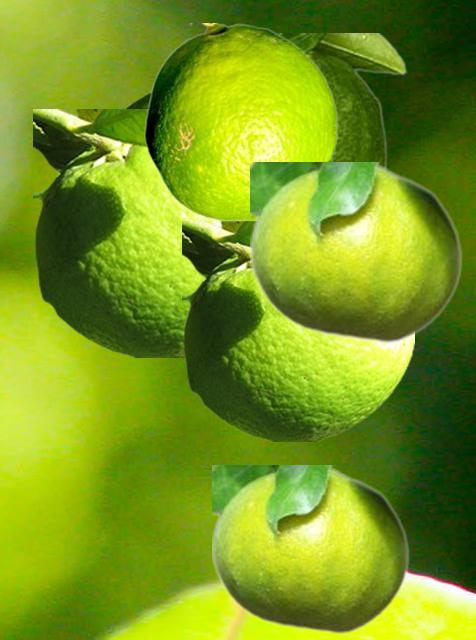dalandan: (182, 221, 413, 440), (33, 109, 219, 356), (250, 162, 462, 343), (144, 23, 337, 221), (212, 465, 409, 634), (279, 33, 406, 168)
